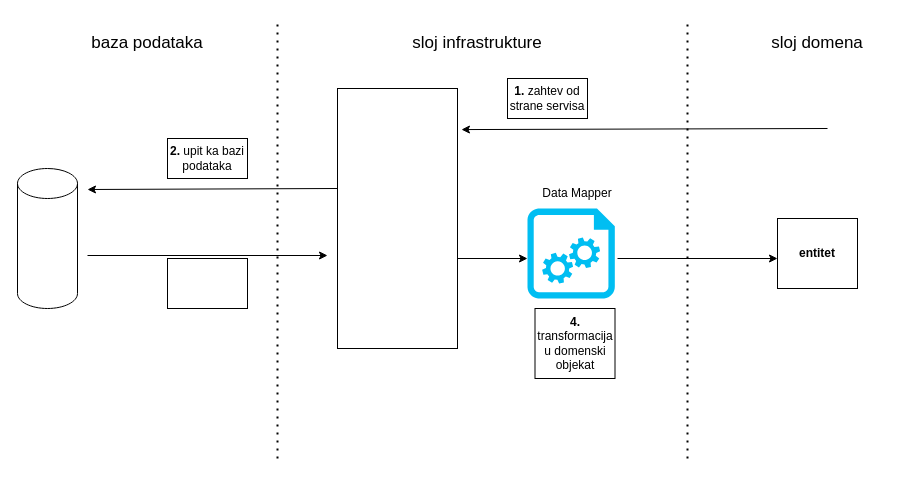
Some shapes in this 915 by 477 pixel diagram are drawn without their labels. Here are the shapes that lost their labels. From the top down, the centre of each, then its label:
point 397,218: repository
point 207,283: 3. objekat iz baze podataka
